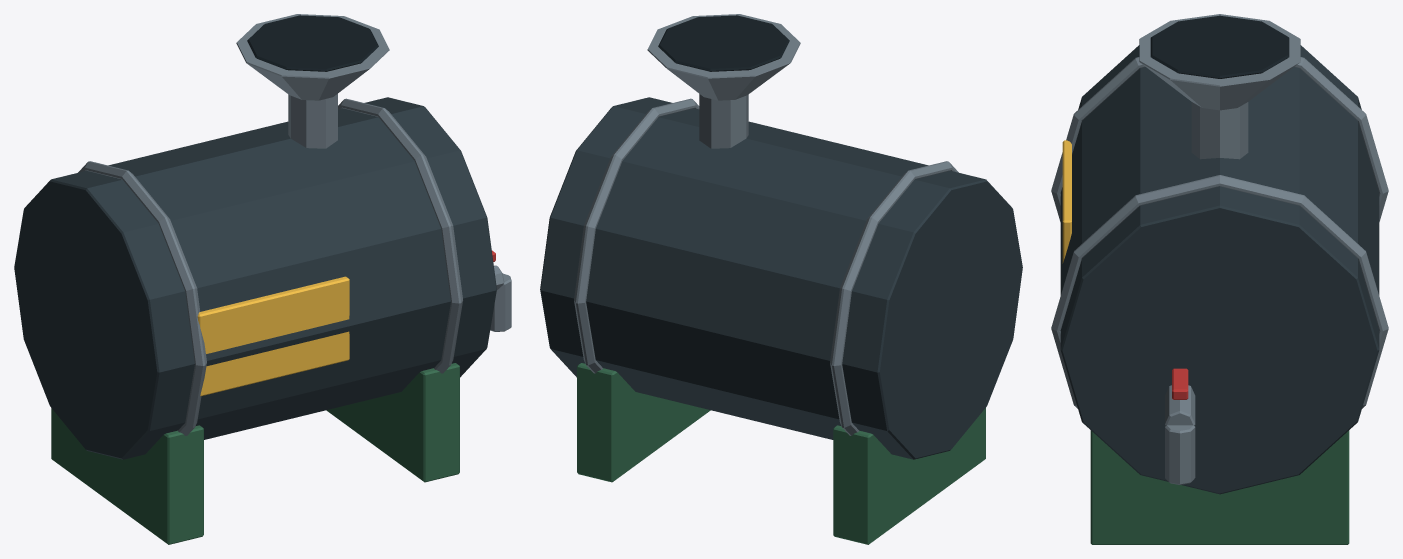
The model's file is b04_used_motor_oil_collection_tank.glb.
3 views of the same model, side by side, from view 1: azimuth 30°, elevation 25°; view 2: azimuth 150°, elevation 25°; view 3: azimuth 270°, elevation 25° (orthographic). The views are drawn at different scales.
Visible parts, largest first — view 1: b04_used_motor_oil_collection_tank; view 2: b04_used_motor_oil_collection_tank; view 3: b04_used_motor_oil_collection_tank.
Boxes of the visible parts, bbox=[...] form: b04_used_motor_oil_collection_tank: bbox=[14, 14, 511, 544]; b04_used_motor_oil_collection_tank: bbox=[540, 14, 1022, 544]; b04_used_motor_oil_collection_tank: bbox=[1051, 14, 1388, 544].
Size of the model in its own units: 1.56 by 1.5 by 1.02.
